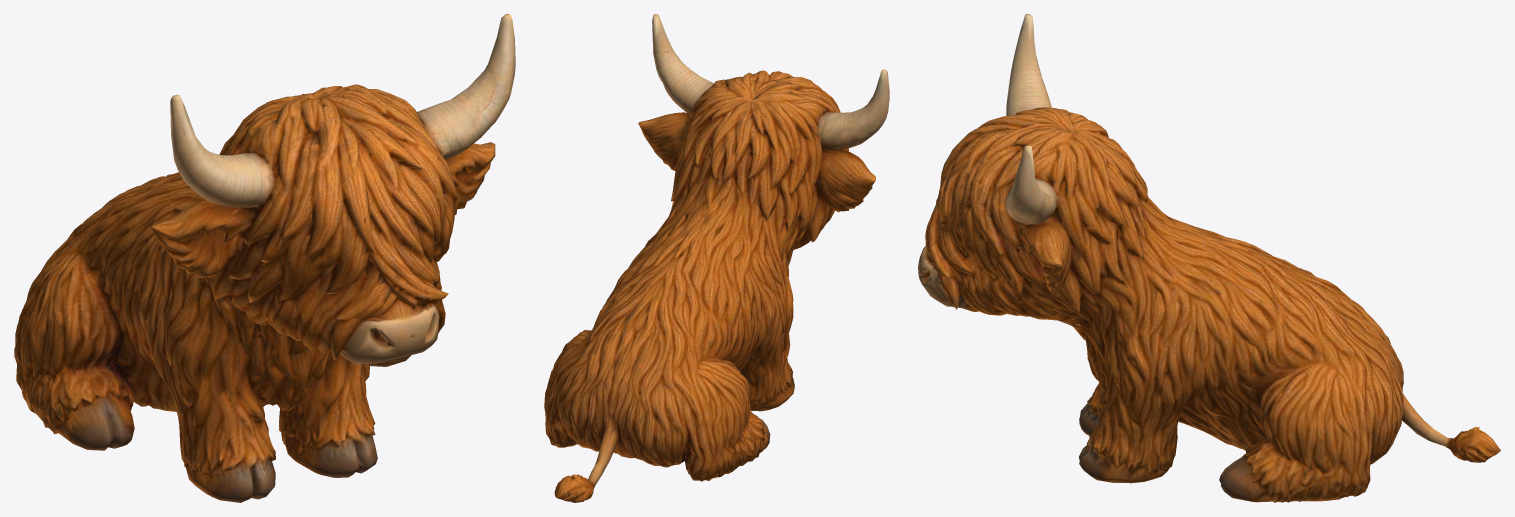
The picture shows the model from 3 angles, left to right: view 1: azimuth 30°, elevation 25°; view 2: azimuth 150°, elevation 25°; view 3: azimuth 270°, elevation 25°; orthographic projection. The views are drawn at different scales.
Size of the model in its own units: 1.04 by 1.34 by 1.9.
Materials: 1 (1 with a texture image).
